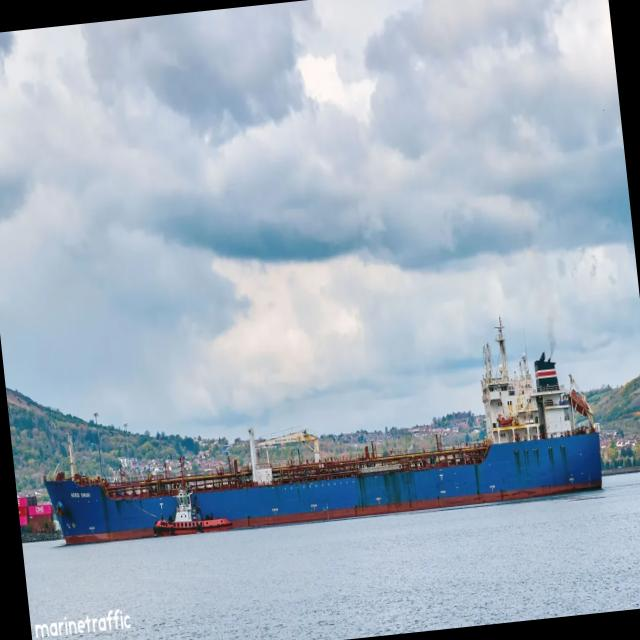Tanker: (43, 317, 601, 543)
Tug: (154, 488, 231, 535)
